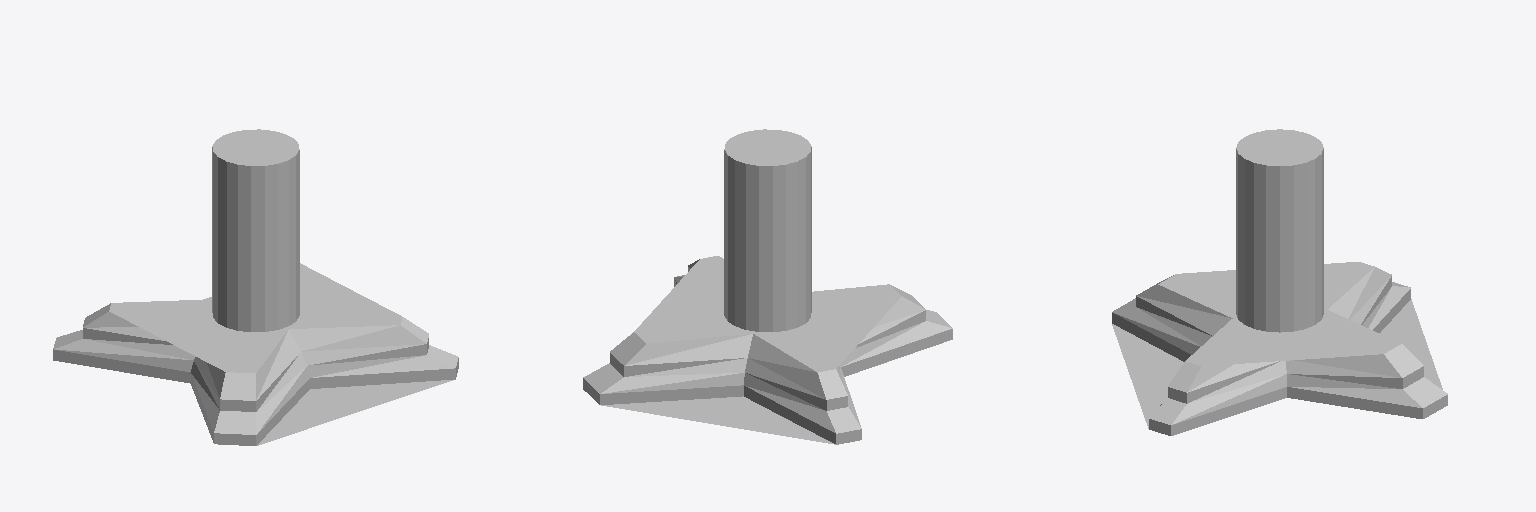
Rendered from Turret_body.obj.
3 renders of one model, left to right at view 1: azimuth 30°, elevation 25°; view 2: azimuth 150°, elevation 25°; view 3: azimuth 270°, elevation 25°, orthographic.
Parts seen in each view (by area): view 1: default; view 2: default; view 3: default.
Part boxes in pixels (bbox=[...]): default: bbox=[53, 129, 458, 445]; default: bbox=[583, 129, 952, 444]; default: bbox=[1112, 129, 1447, 435].
Bounding box in the file's own units: 4.3 × 3 × 4.23.